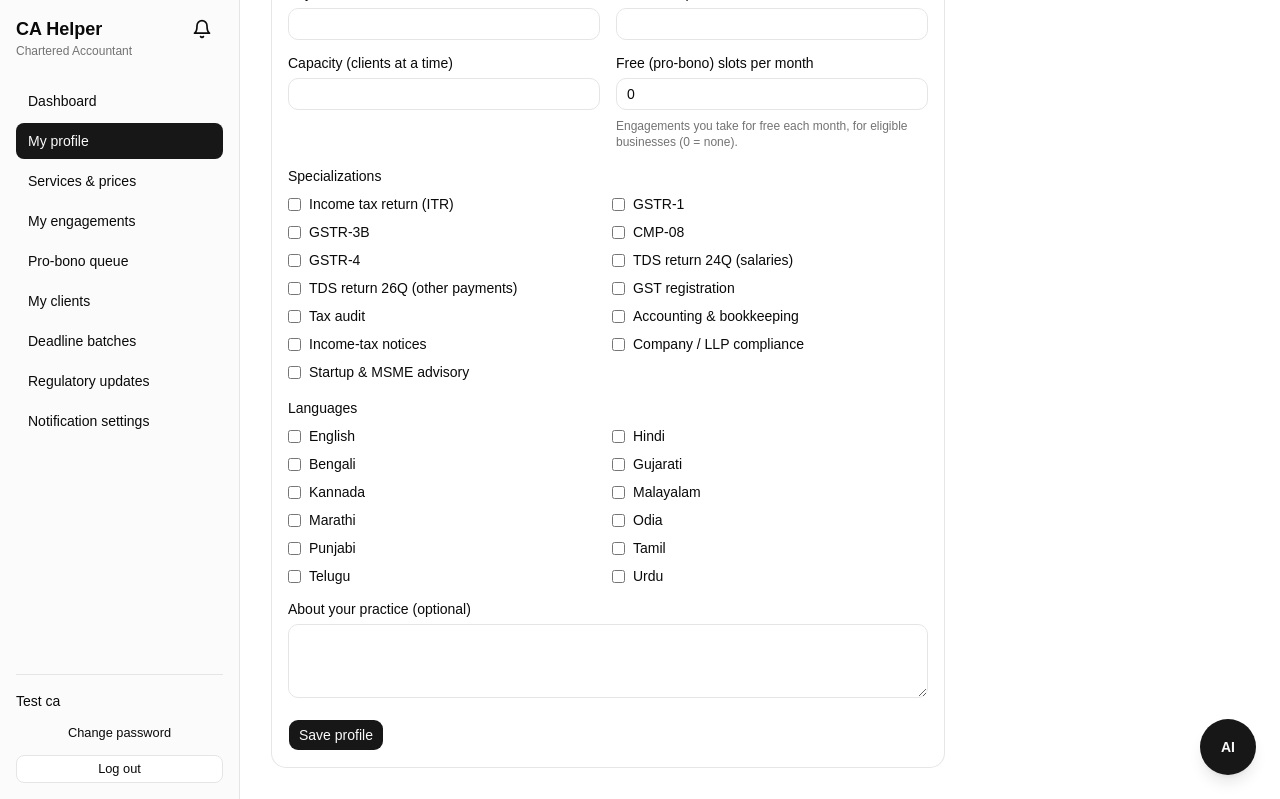
CA profile page › checks the fields before sending anything
The image size is (1280, 799).
(page scrolled)
Click the button "Save profile" at coordinates (336, 735), box [288,719,384,751]
(page scrolled)
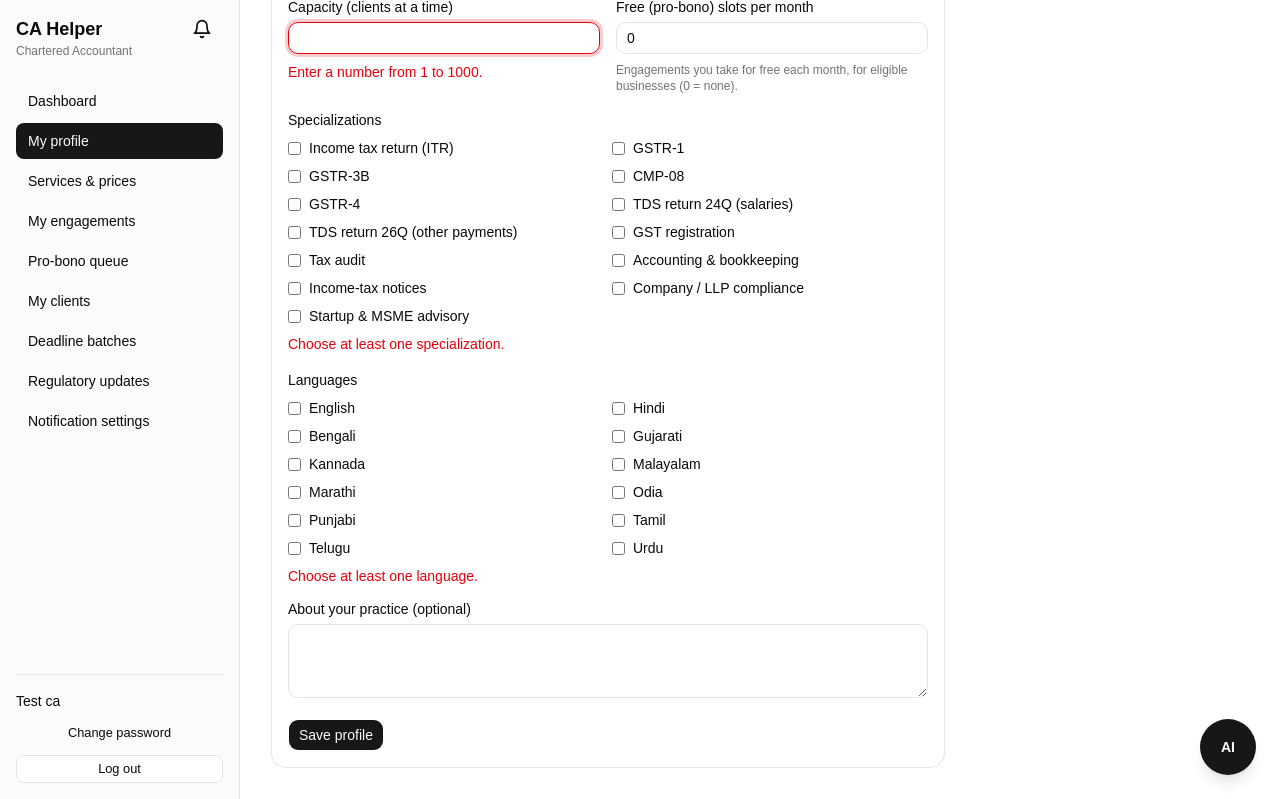
Expected: the text "Choose at least one specialization." is shown, [288,336,504,352]
Expected: the text "Choose at least one language." is shown, [288,568,478,584]
